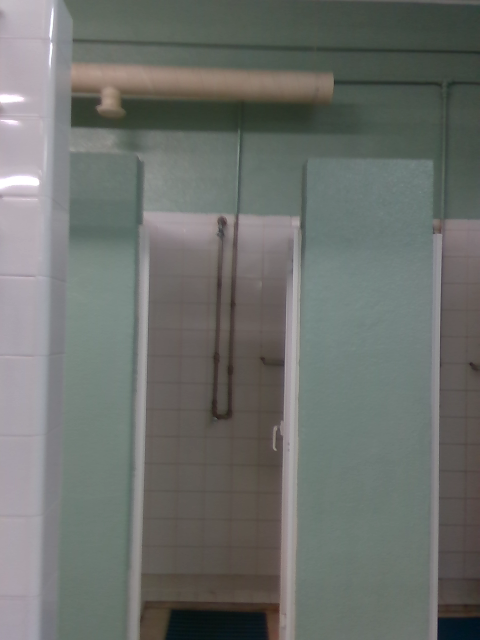open: (274, 221, 304, 639)
